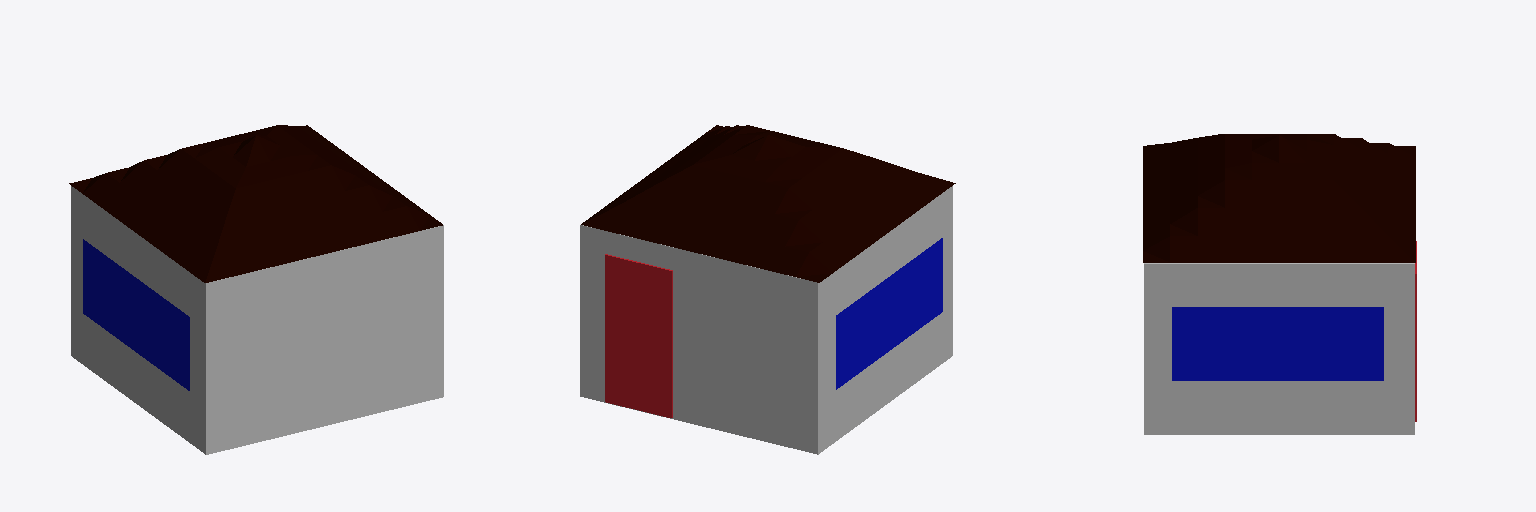
File: Home1.obj
3 renders of one model, left to right at view 1: azimuth 30°, elevation 25°; view 2: azimuth 150°, elevation 25°; view 3: azimuth 270°, elevation 25°, orthographic.
Visible parts, largest first — view 1: Cube; view 2: Cube; view 3: Cube.
Boxes of the visible parts, x1,y1,x2,y2 form: Cube: [69, 125, 443, 454]; Cube: [580, 125, 955, 454]; Cube: [1143, 134, 1416, 434].
Bounding box in the file's own units: 3.59 × 3.43 × 3.53.